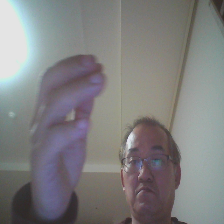hand: (24, 52, 110, 223)
